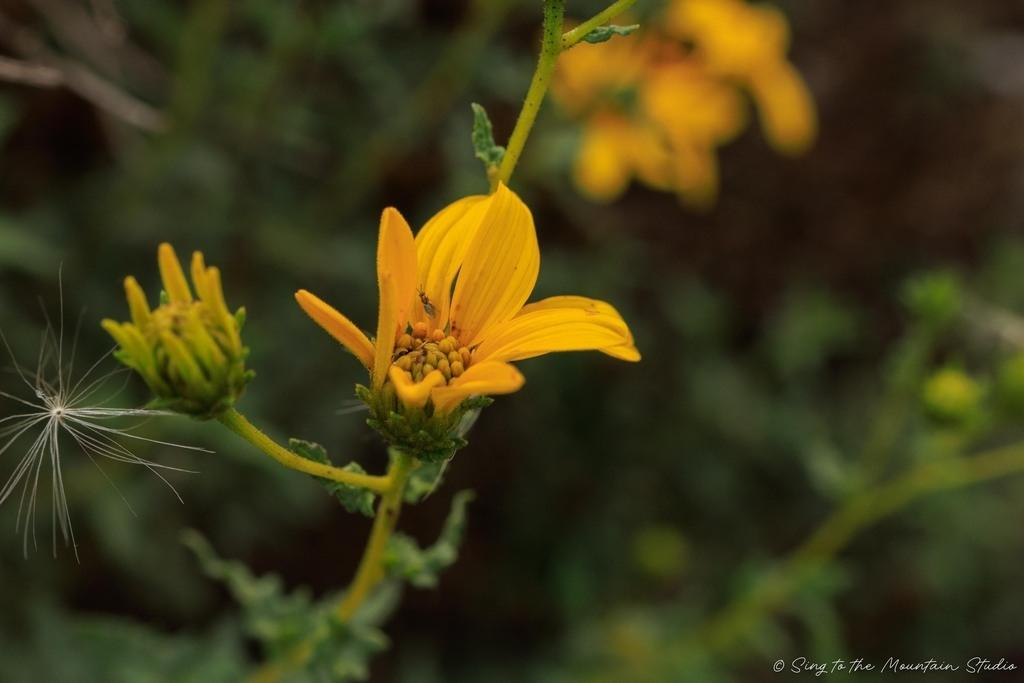tiny_pests: (409, 280, 446, 328)
